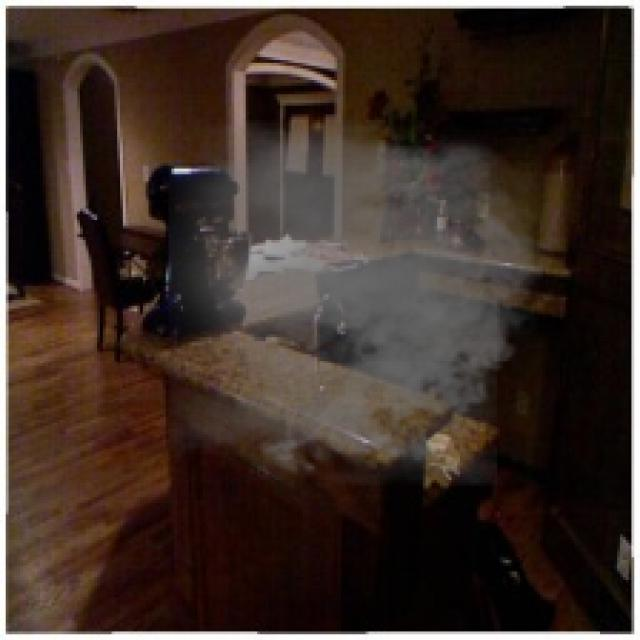smoke: (168, 120, 563, 486)
